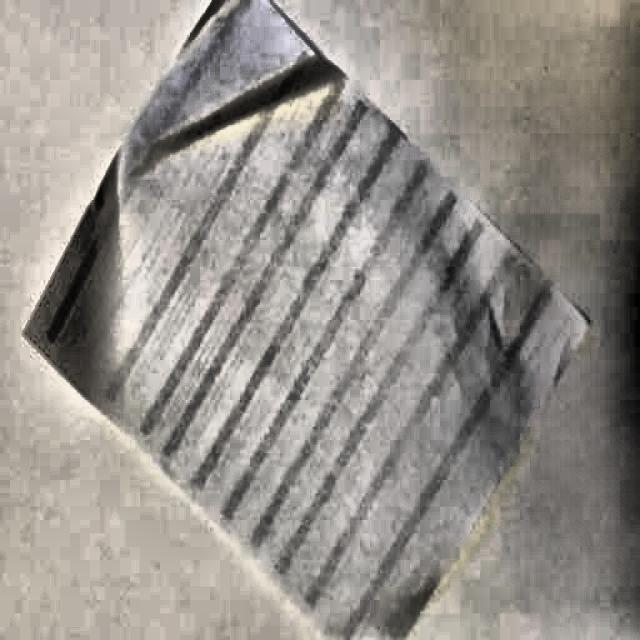paper: (0, 0, 601, 640)
